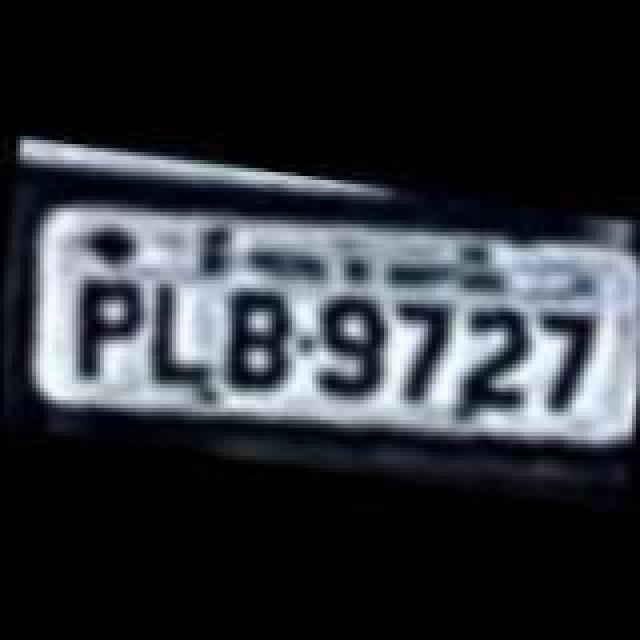2: (450, 296, 546, 412)
7: (514, 304, 610, 420), (376, 288, 460, 412)
9: (306, 290, 402, 406)
B: (212, 282, 304, 398)
L: (144, 276, 228, 388)
P: (68, 278, 144, 390)
